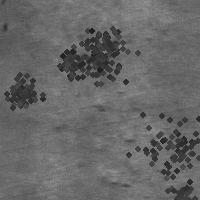rolled-in_scale: (124, 103, 200, 193), (81, 128, 151, 191), (72, 10, 134, 72), (73, 38, 125, 90), (0, 67, 43, 115), (48, 40, 92, 84), (157, 175, 200, 200)
